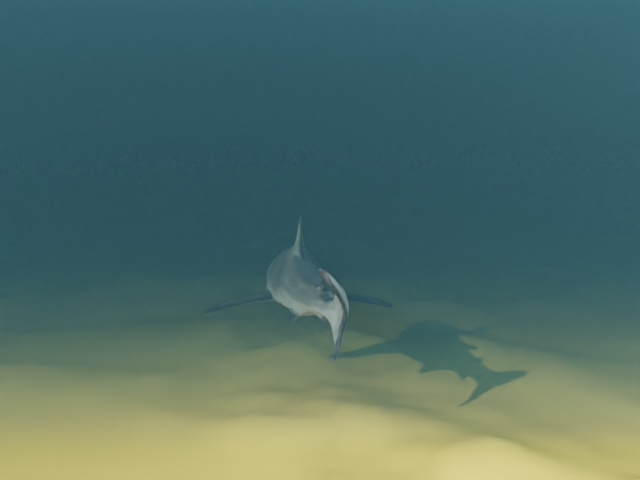Carribean Shark.001: (202, 215, 394, 362)
